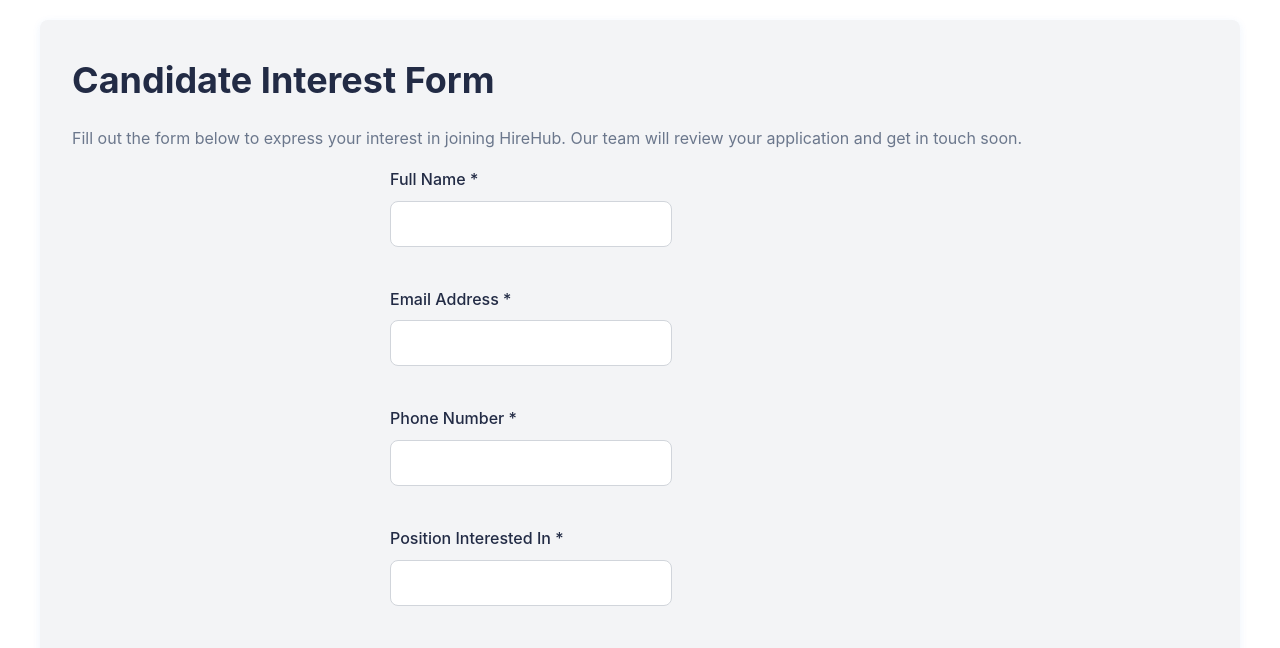
InterestForm › shows validation error for invalid email
In the field labelled "Email Address *": coordinates (531, 343) [390,320,672,366], type "invalid-email"
(page scrolled)
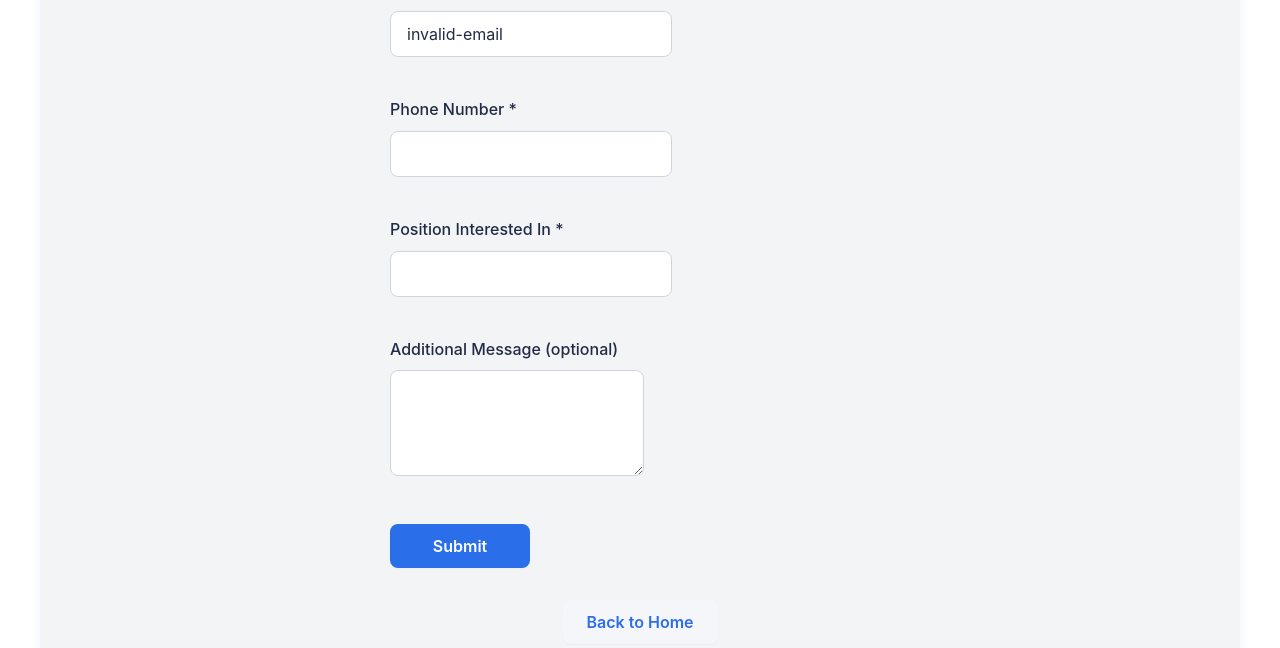
Click the button "Submit": coordinates (460, 546) [390,524,530,568]
(page scrolled)
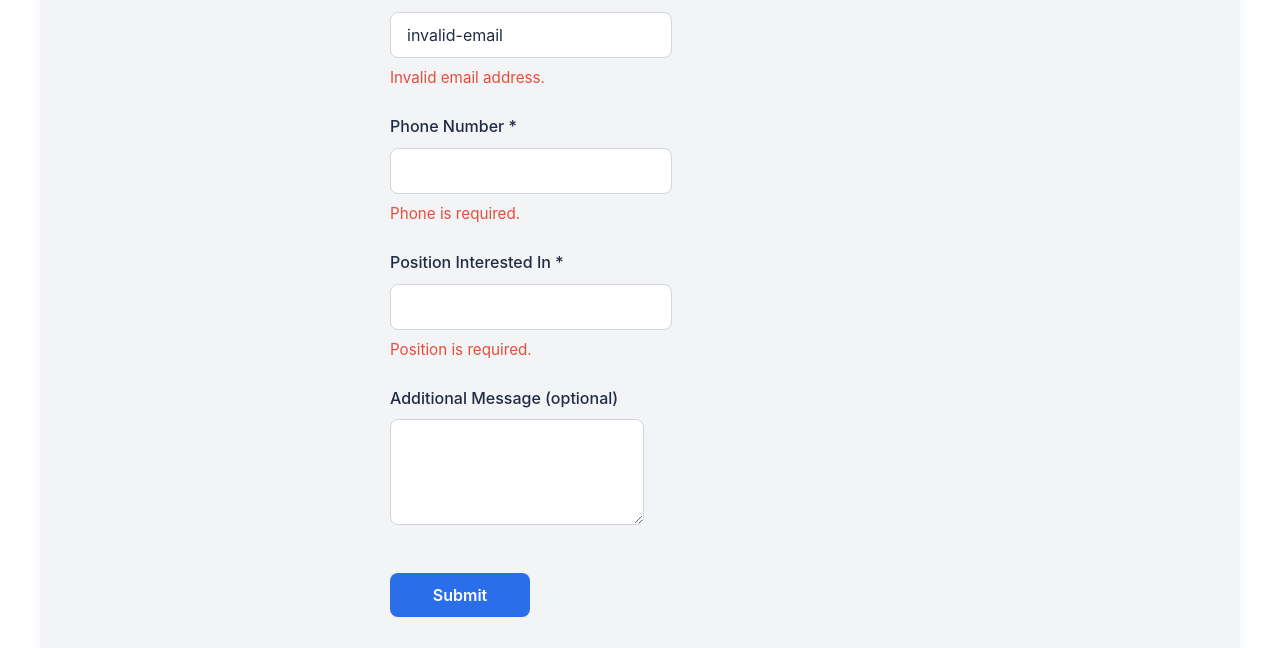
Now the text "Invalid email address." is shown, box [390,68,545,87]
